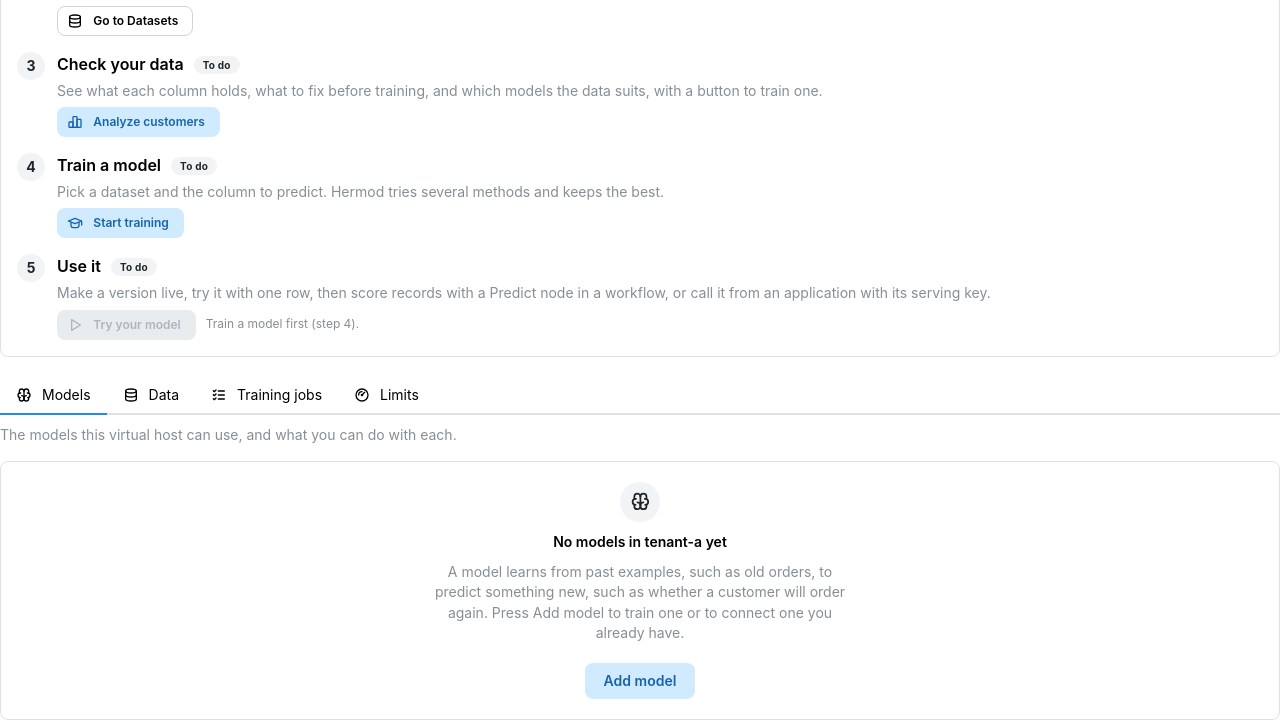
Jobs list on the Models page › lists jobs with status, progress and why one failed, and filters by status
The image size is (1280, 720).
(page scrolled)
Click the tab "Training jobs". click: (266, 396)
box: [195, 376, 338, 414]
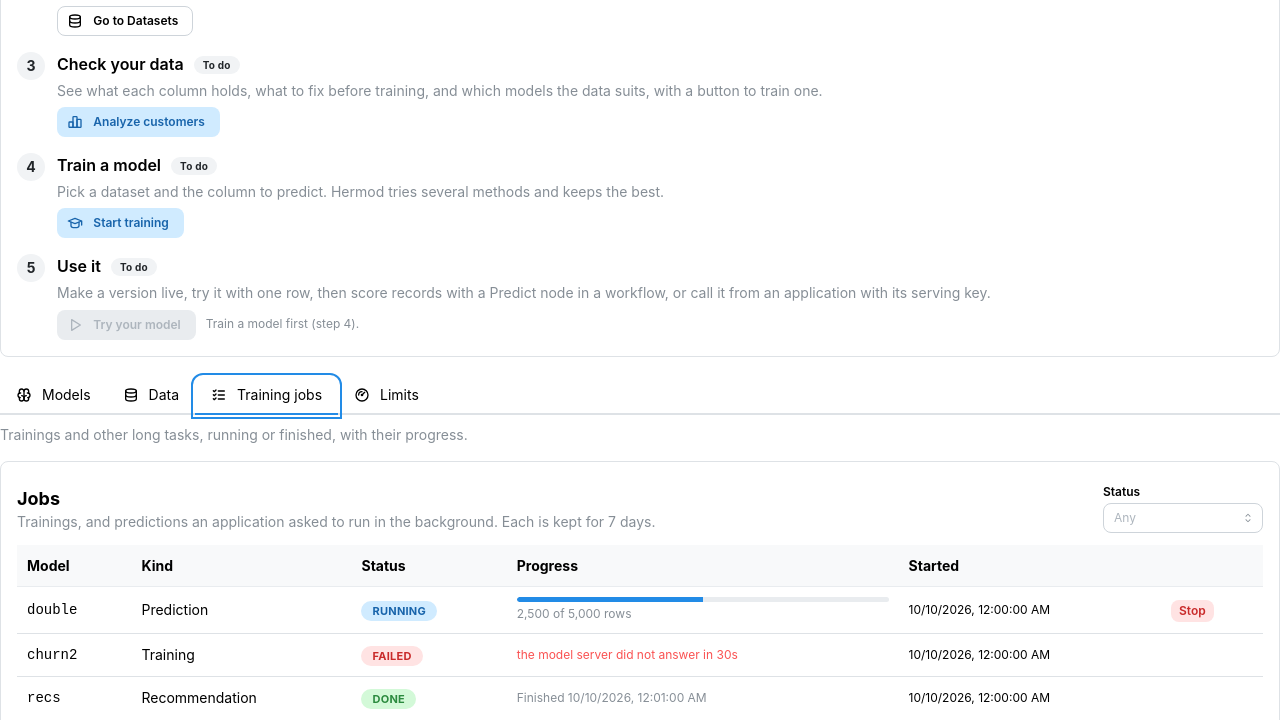
Check: the text "2,500 of 5,000 rows" is shown, box [517, 606, 632, 621]
Check: the text "the model server did not answer in 30s" is shown, box [517, 647, 738, 662]
Check: the text "Prediction" is shown, box [142, 601, 208, 618]
Click the dropdown labelled "Status". click: (1183, 518)
box: [1103, 503, 1263, 533]
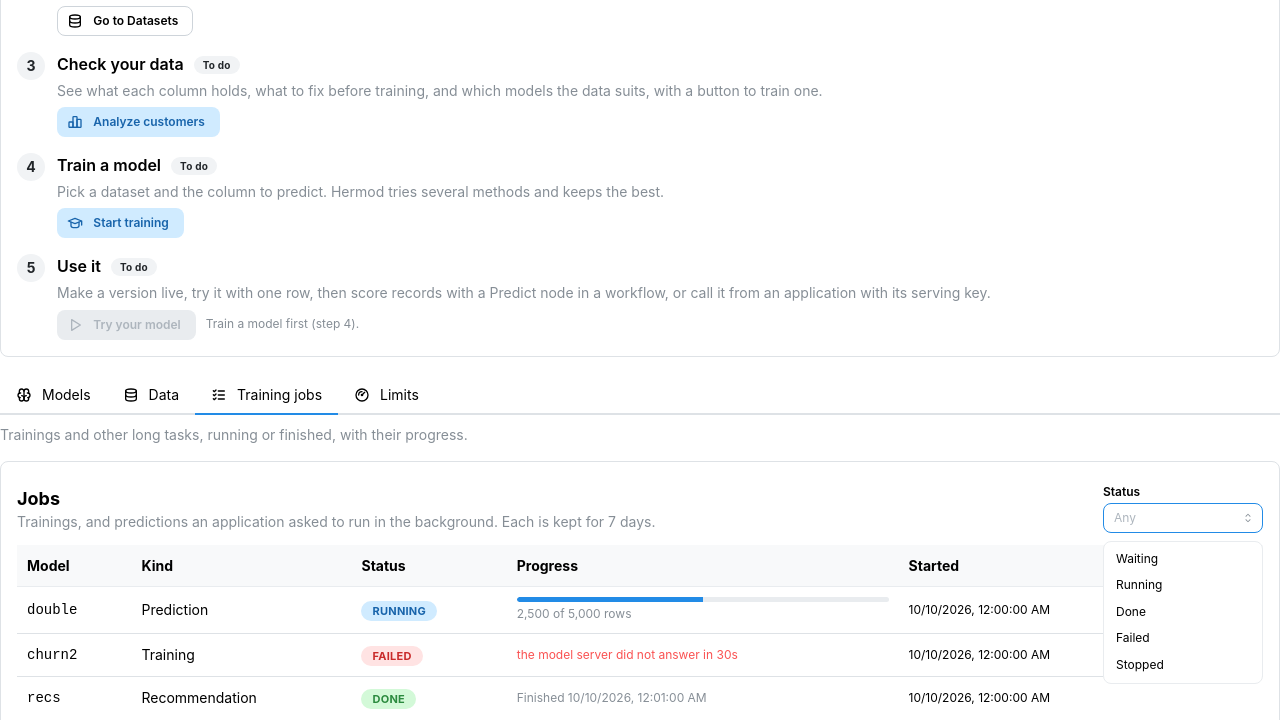
Click the option "Failed". click: (1133, 638)
box: [1116, 630, 1150, 645]
(page scrolled)
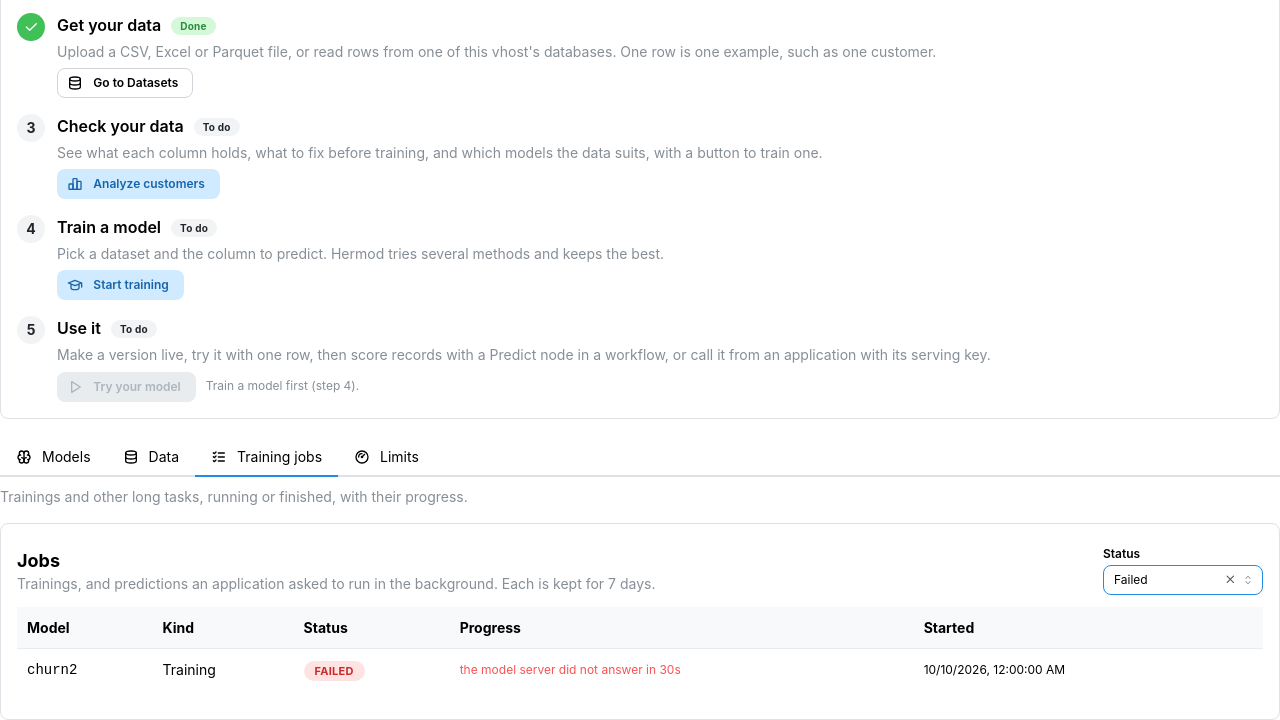
Check: the text "2,500 of 5,000 rows" is gone
